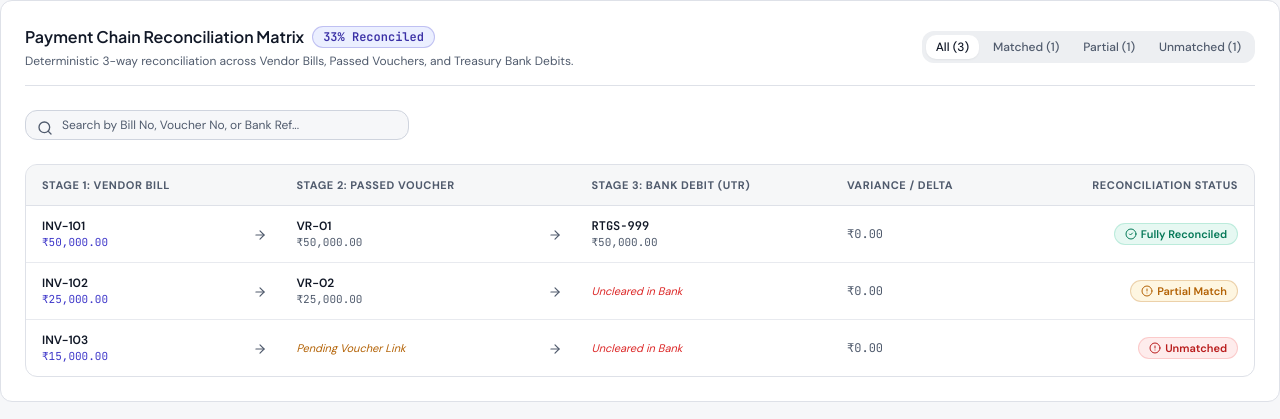
Test: ReconciliationMatrix Component › filters items by status buttons
The image size is (1280, 419).
Click the button "Matched (1)" at {"x": 1026, "y": 47}, box [983, 35, 1069, 59]
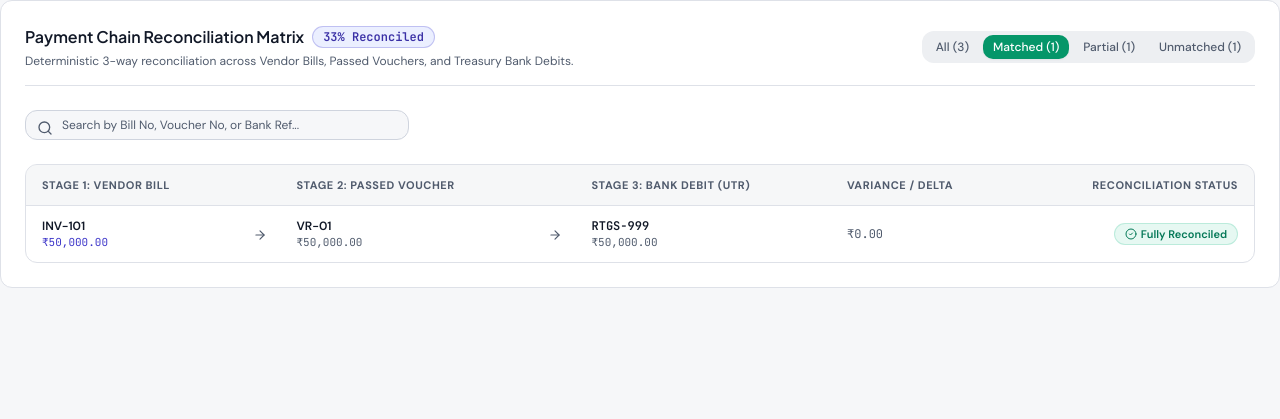
Expected: the text "INV-101" is shown, [42, 218, 85, 234]
Now the text "INV-102" is gone
Now the text "INV-103" is gone
